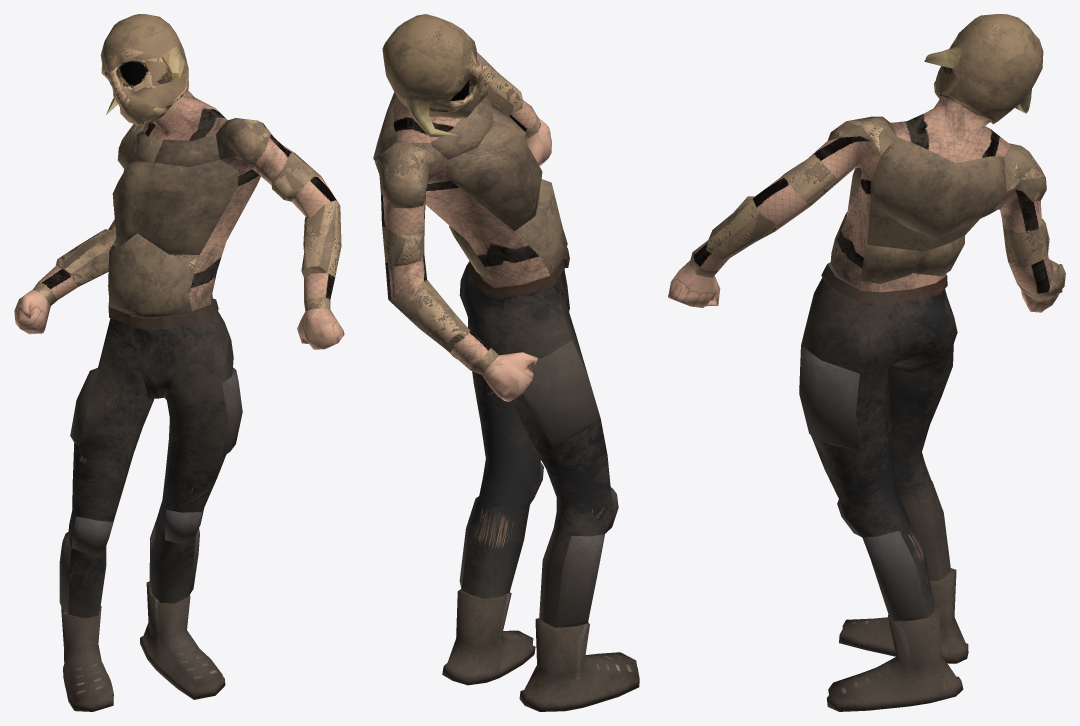
File: Anim_recibirdanyo_npc1.0018.obj
3 renders of one model, left to right at view 1: azimuth 30°, elevation 25°; view 2: azimuth 150°, elevation 25°; view 3: azimuth 270°, elevation 25°, orthographic. The views are drawn at different scales.
Visible parts, largest first — view 1: NPC2; view 2: NPC2; view 3: NPC2.
Boxes of the visible parts, bbox=[...] form: NPC2: bbox=[14, 14, 344, 711]; NPC2: bbox=[373, 14, 639, 711]; NPC2: bbox=[668, 14, 1065, 711].
Bounding box in the file's own units: 3.38 × 9.12 × 4.74.
